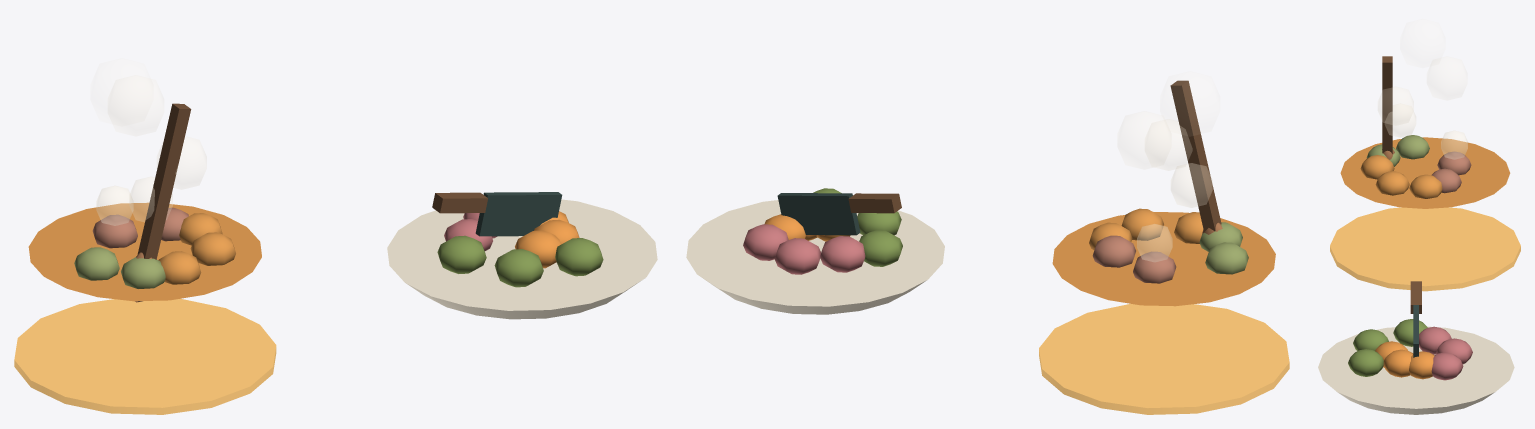
The model's file is roastRoots-cooking.glb.
3 renders of one model, left to right at view 1: azimuth 30°, elevation 25°; view 2: azimuth 150°, elevation 25°; view 3: azimuth 270°, elevation 25°, orthographic. The views are drawn at different scales.
Visible parts, largest first — view 1: Heat, KitchenFinishedDish, Liquid, Ingredients, Steam, Knife, Spoon; view 2: Heat, KitchenFinishedDish, Liquid, Ingredients, Steam, Knife, Spoon; view 3: KitchenFinishedDish, Heat, Liquid, Ingredients, Steam, Spoon, Knife.
Boxes of the visible parts, x1,y1,x2,y2 form: Heat: (14,298,276,414); KitchenFinishedDish: (387,199,657,319); Liquid: (28,202,261,301); Ingredients: (74,207,235,288); Steam: (96,75,206,225); Knife: (432,192,562,236); Spoon: (135,103,191,302); Heat: (1039,303,1289,414); KitchenFinishedDish: (686,188,944,314); Liquid: (1052,212,1275,306); Ingredients: (1089,208,1248,283); Steam: (1118,111,1212,261); Knife: (777,193,901,235); Spoon: (1170,80,1222,234); KitchenFinishedDish: (1318,319,1514,414); Heat: (1330,207,1520,291); Liquid: (1340,137,1510,208); Ingredients: (1360,135,1471,198); Steam: (1378,57,1467,159); Spoon: (1382,56,1394,159); Knife: (1410,281,1421,357).
Bounding box in the file's own units: 2.21 × 1.21 × 0.892.
